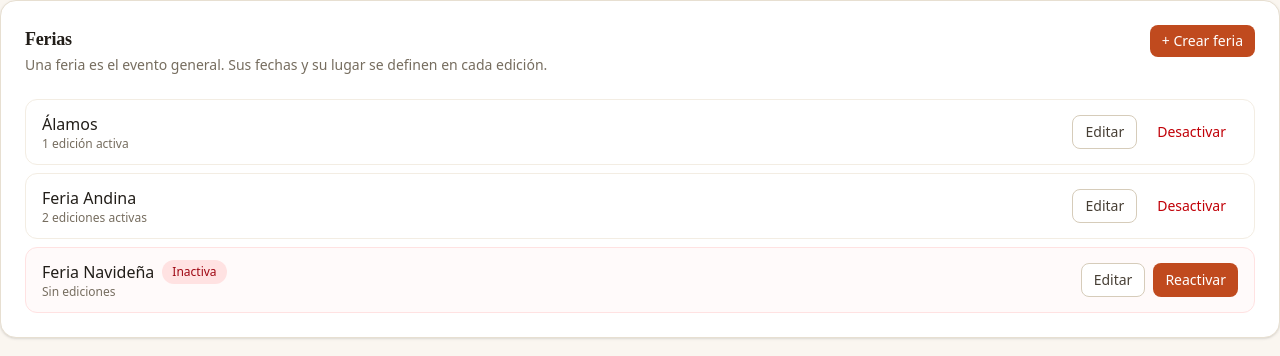
GestionFerias: renombrar › al editar aparece el campo con el nombre actual
Step 1. Click the button "Editar" in the row of "2 ediciones activas" → (1105, 206), box [1072,189,1137,223]
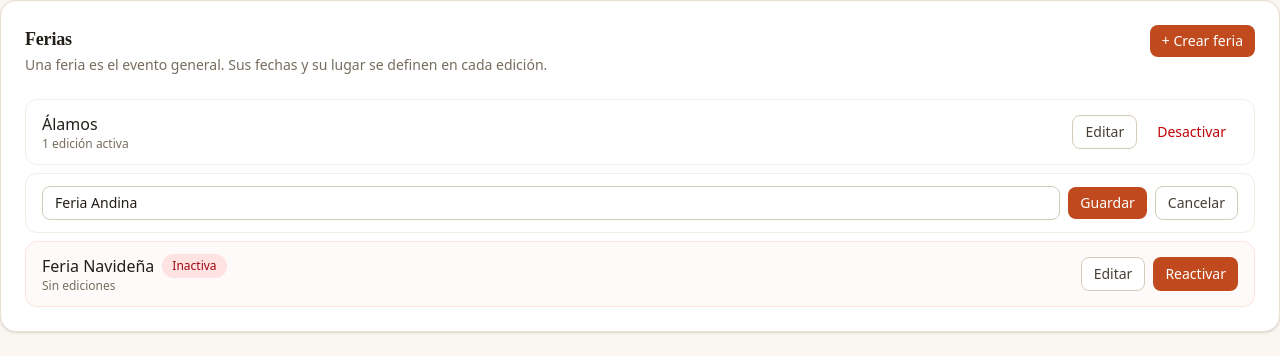
Check: the field named "Nuevo nombre de la feria" holds "Feria Andina", box [42,186,1060,220]
